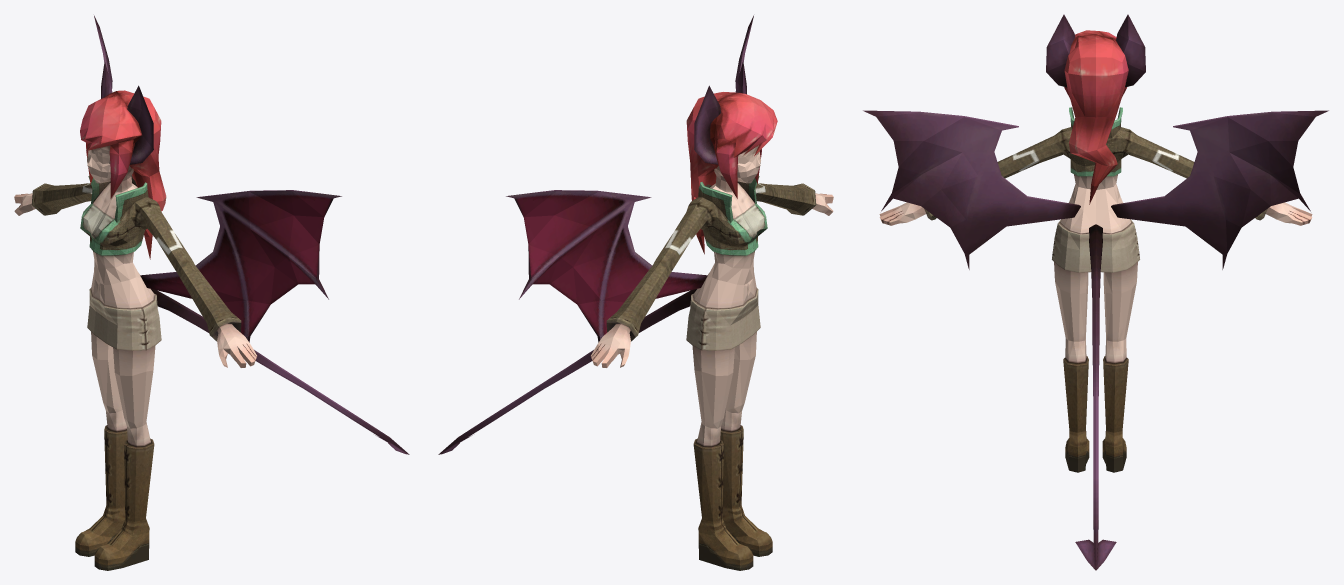
The model's file is Bat_scout.obj.
The picture shows the model from 3 angles, left to right: view 1: azimuth 30°, elevation 25°; view 2: azimuth 150°, elevation 25°; view 3: azimuth 270°, elevation 25°; orthographic projection. The views are drawn at different scales.
Parts seen in each view (by area): view 1: Bat_scout_tri; view 2: Bat_scout_tri; view 3: Bat_scout_tri.
Part boxes in pixels (bbox=[...]): Bat_scout_tri: bbox=[14, 15, 409, 570]; Bat_scout_tri: bbox=[438, 15, 833, 570]; Bat_scout_tri: bbox=[863, 14, 1328, 570].
Bounding box in the file's own units: 1.28 × 1.77 × 1.67.
1 material, 1 textured.
